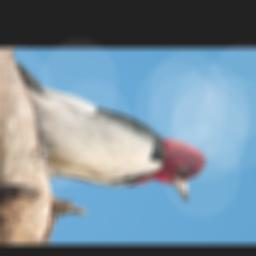Woodpecker: (16, 56, 210, 205)
